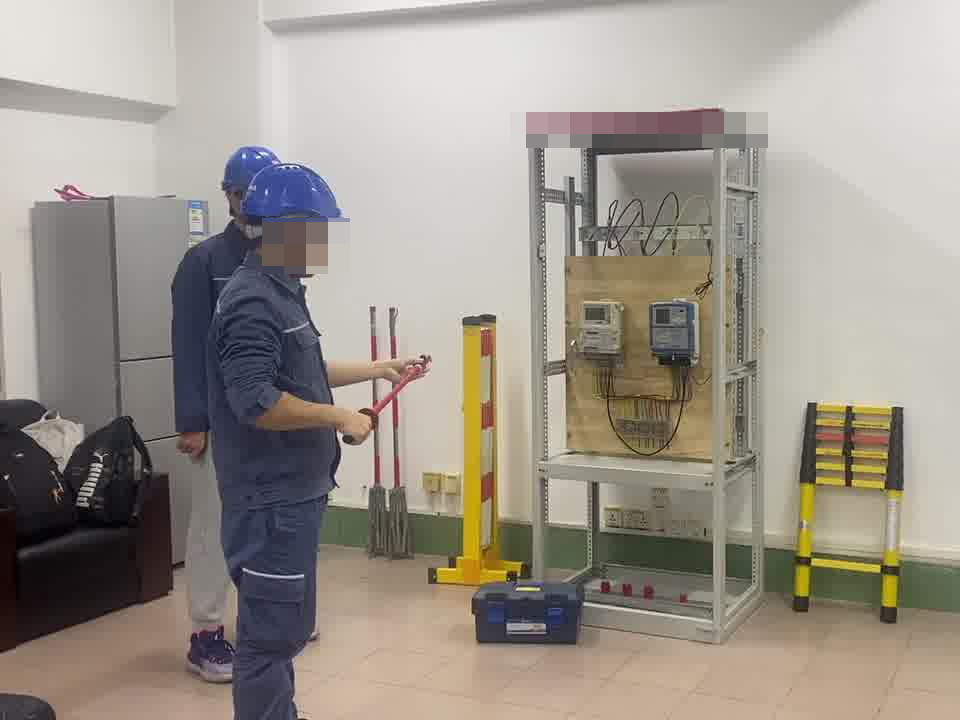downcloth: (171, 428, 250, 635)
downsuit: (215, 508, 327, 720)
halt: (238, 164, 352, 283), (221, 144, 282, 219)
hand: (382, 348, 434, 381), (344, 405, 378, 452), (178, 428, 210, 458)
inear: (265, 214, 324, 288)
person: (214, 157, 383, 720), (163, 136, 281, 673)
testrod: (344, 351, 433, 446)
upsuit: (189, 235, 353, 500)
wrongtop: (232, 386, 379, 447), (316, 340, 433, 387)
